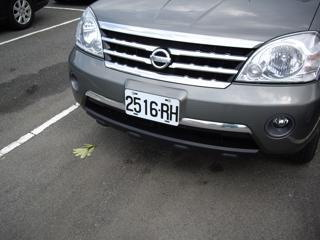plate: (124, 89, 181, 128)
